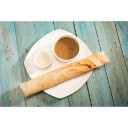dosa: (20, 49, 113, 98)
